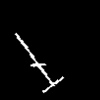double_crochet: (15, 33, 63, 92)
